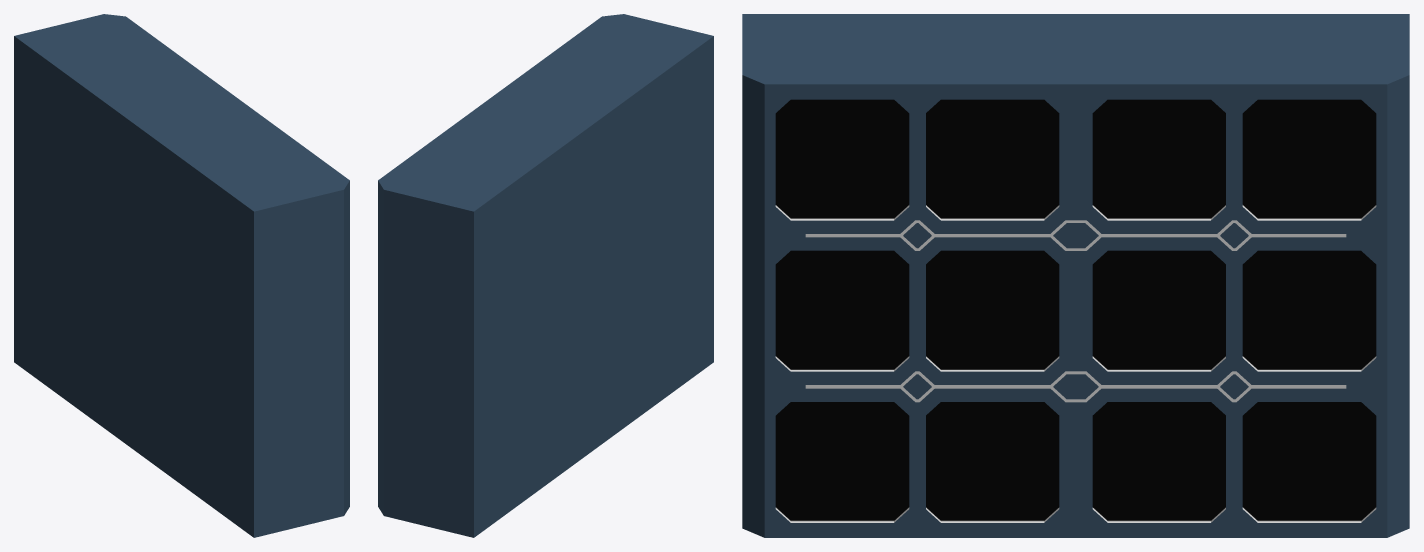
File: JetpackShelf.fbx
3 views of the same model, side by side, from view 1: azimuth 30°, elevation 25°; view 2: azimuth 150°, elevation 25°; view 3: azimuth 270°, elevation 25° (orthographic). The views are drawn at different scales.
Parts seen in each view (by area): view 1: MainStructure; view 2: MainStructure; view 3: Glass, MainStructure, MainStructure_LED, MainStructure_Insect.
Boxes of the visible parts, x1,y1,x2,y2 form: MainStructure: (14, 14, 349, 537); MainStructure: (378, 14, 713, 537); Glass: (775, 99, 1376, 520); MainStructure: (742, 14, 1409, 537); MainStructure_LED: (775, 205, 1376, 522); MainStructure_Insect: (776, 205, 1375, 521).
Bounding box in the file's own units: 100 × 300 × 400.
